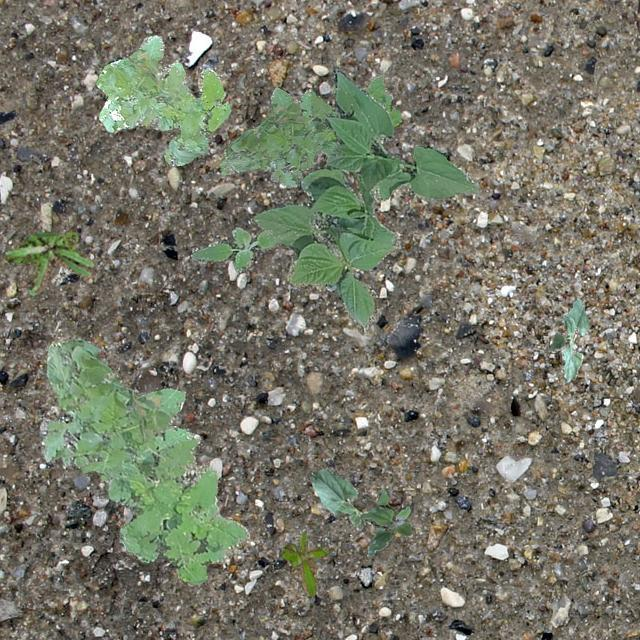crop: (250, 68, 478, 334), (306, 468, 369, 528), (546, 294, 588, 382)
weed: (38, 338, 248, 584), (218, 74, 400, 185), (96, 34, 230, 164), (5, 228, 94, 294), (190, 226, 278, 272), (358, 488, 411, 556), (280, 532, 328, 596)
